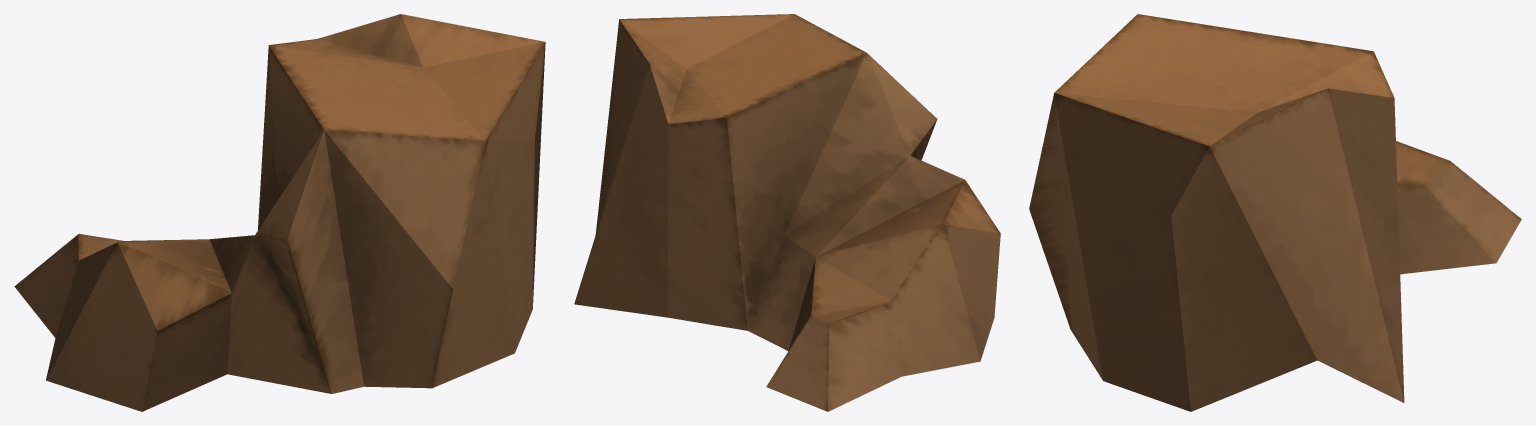
The model's file is Coincraft_Rock_05.fbx.
3 views of the same model, side by side, from view 1: azimuth 30°, elevation 25°; view 2: azimuth 150°, elevation 25°; view 3: azimuth 270°, elevation 25° (orthographic). The views are drawn at different scales.
Parts seen in each view (by area): view 1: Rock_05; view 2: Rock_05; view 3: Rock_05.
Part boxes in pixels (left/top/right/bottom): Rock_05: left=14, top=14, right=545, bottom=411; Rock_05: left=574, top=14, right=1000, bottom=411; Rock_05: left=1029, top=14, right=1521, bottom=411.
Size of the model in its own units: 68.45 by 37.83 by 58.8.
Materials: 1 (1 with a texture image).
